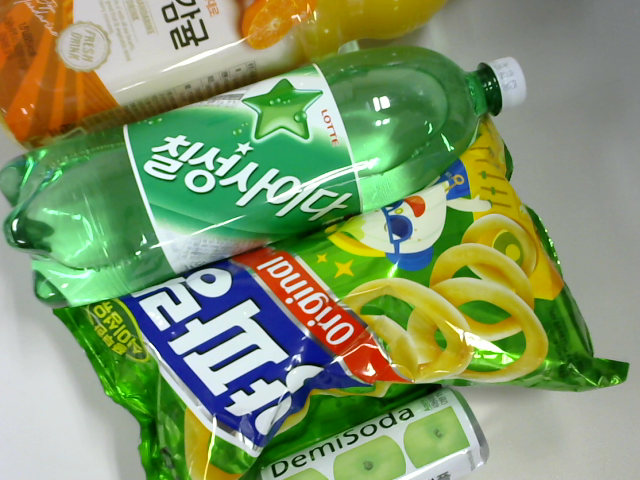Chilseong_Cider_1.5L: (1, 52, 530, 269)
Demisoda_Apple_Can_250ml: (247, 378, 512, 480)
Jeju_Tangerine_1.5L: (1, 1, 471, 160)
Oninon_Ring: (47, 127, 614, 480)
